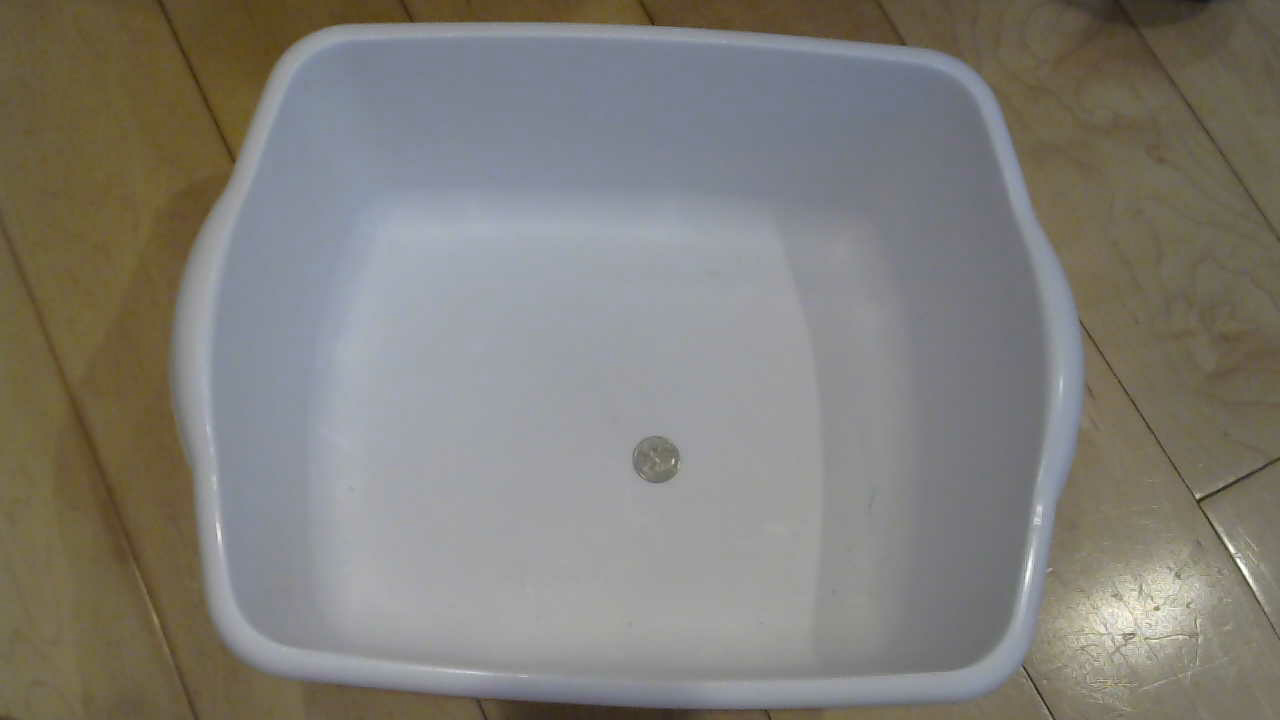coin: (626, 437, 690, 496)
